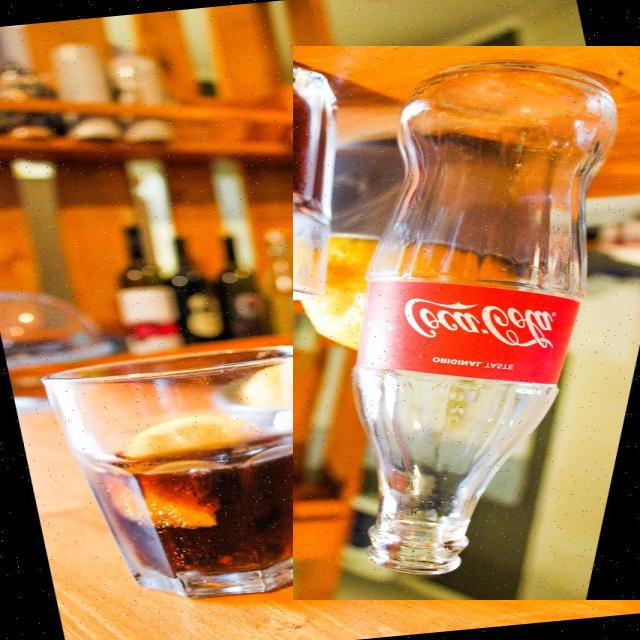coca-cola: (293, 46, 640, 600)
